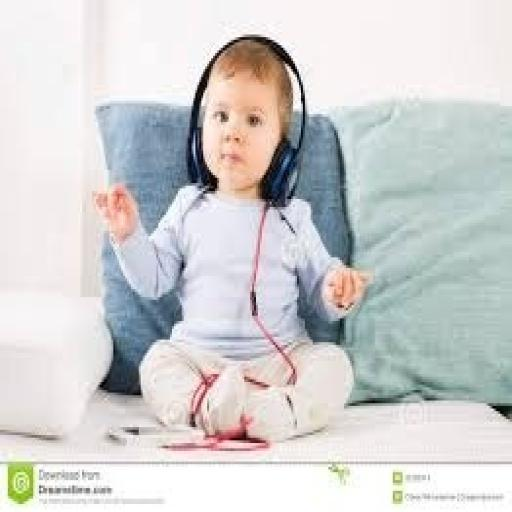listening_to_music: (92, 32, 373, 446)
